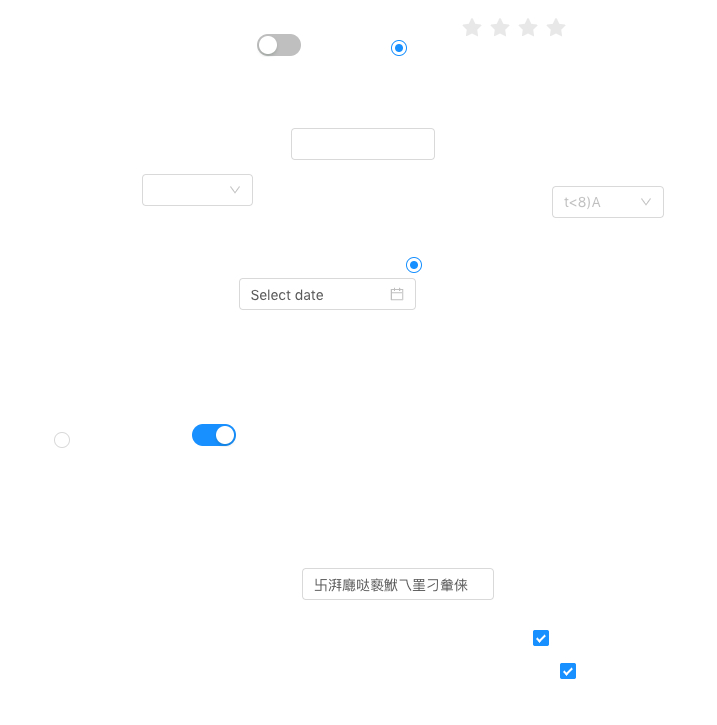Checkbox: (533, 627, 549, 648), (560, 660, 576, 681)
DatePicker: (239, 278, 416, 310)
Input: (302, 568, 494, 600), (291, 128, 435, 160)
Radio: (54, 429, 70, 449), (391, 37, 407, 57), (406, 254, 422, 274)
Rate: (462, 11, 582, 43)
Select: (552, 186, 664, 218), (142, 174, 253, 206)
Switch: (257, 33, 301, 57), (192, 423, 236, 447)
